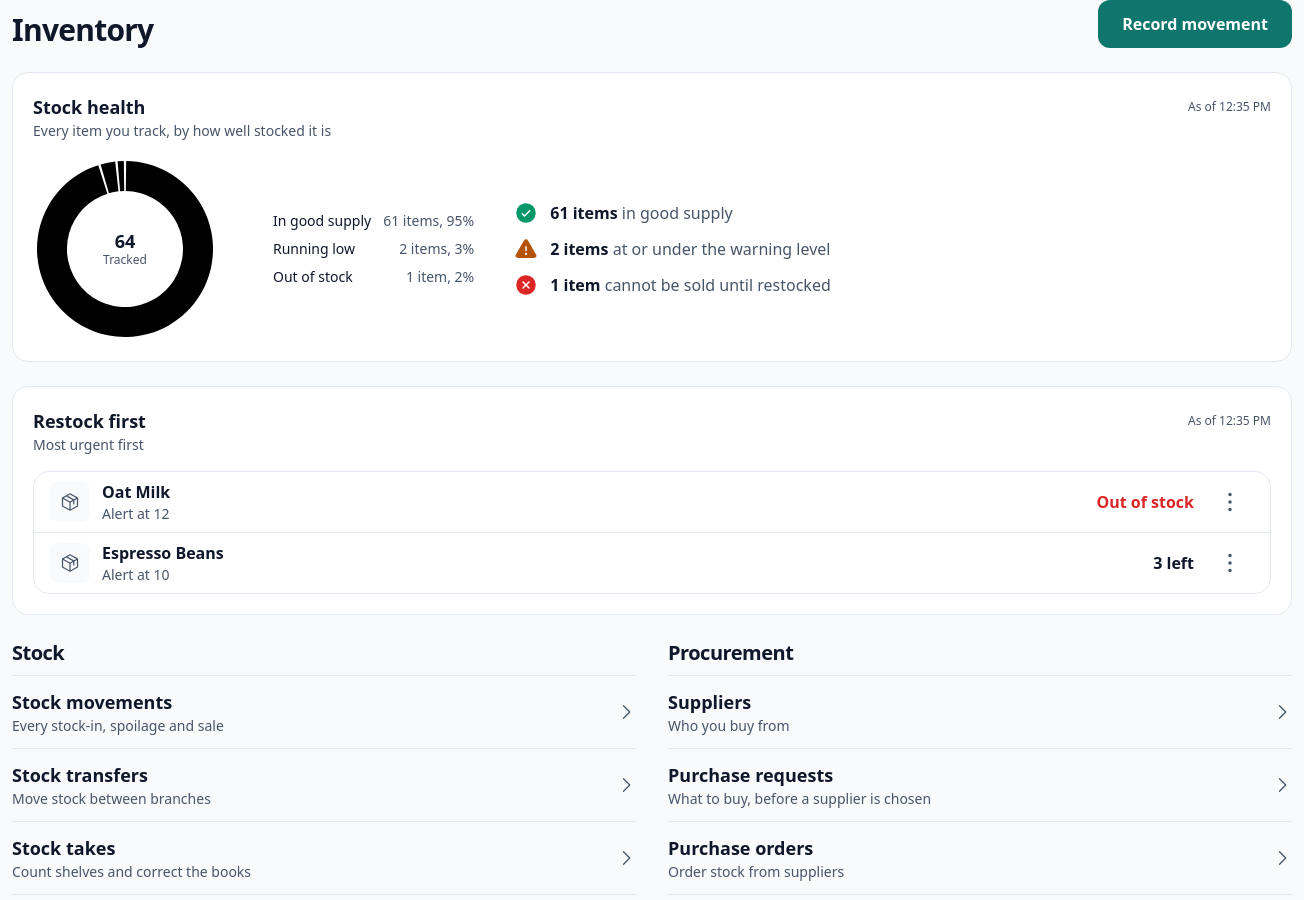
it: InventoryHomePage › keeps the actions of each row in its menu, not as buttons beside it
The width and height of the screenshot is (1304, 900).
Expected: the link "Add stock" is not shown
Click the button named "Actions for " at coordinates (1230, 502), box [1206, 478, 1254, 526]
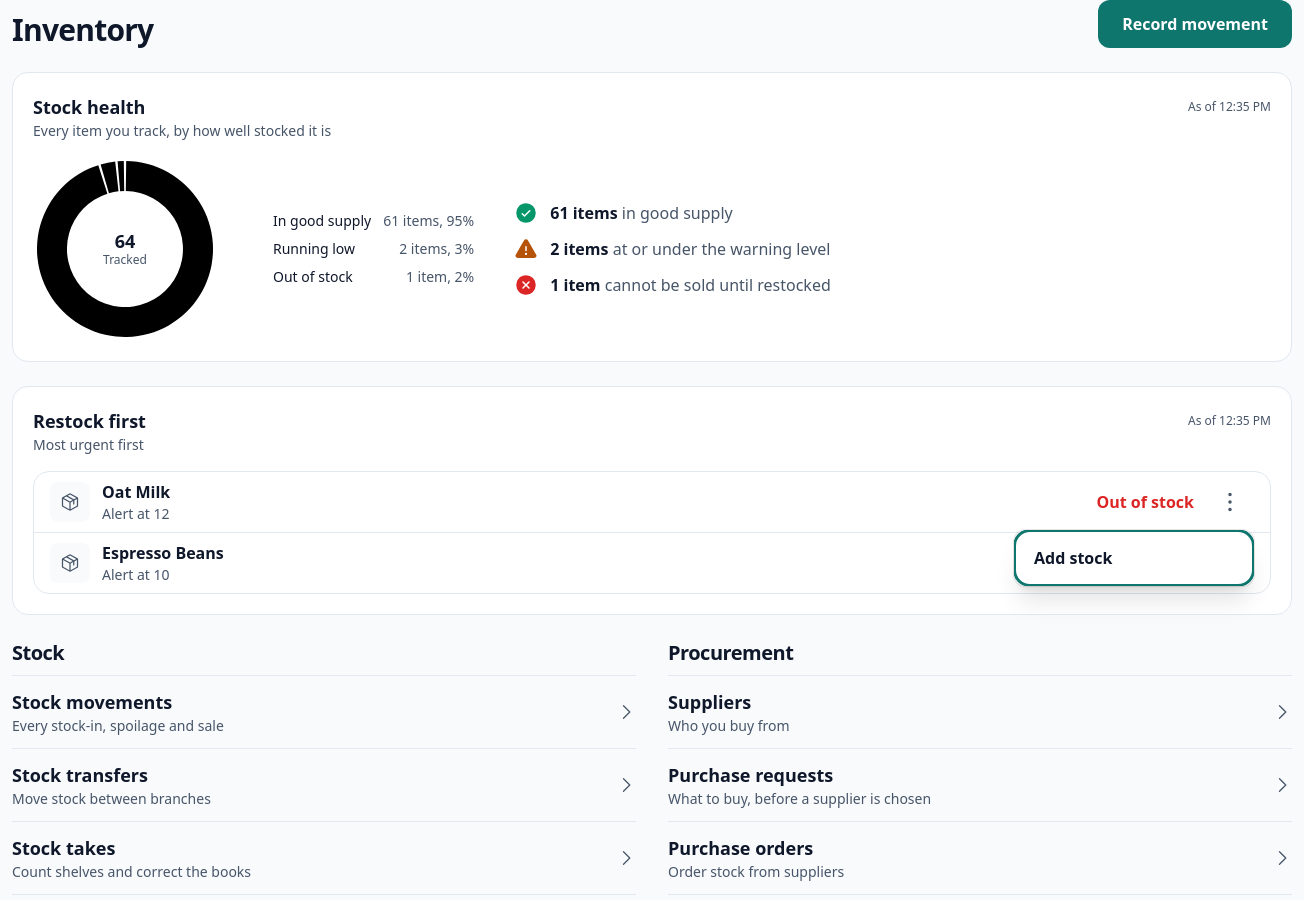
Result: the menu item "Add stock" is shown at [1018, 534, 1250, 582]
